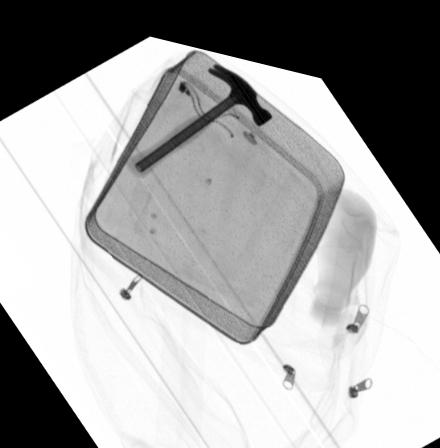Hammer: (125, 51, 274, 170)
